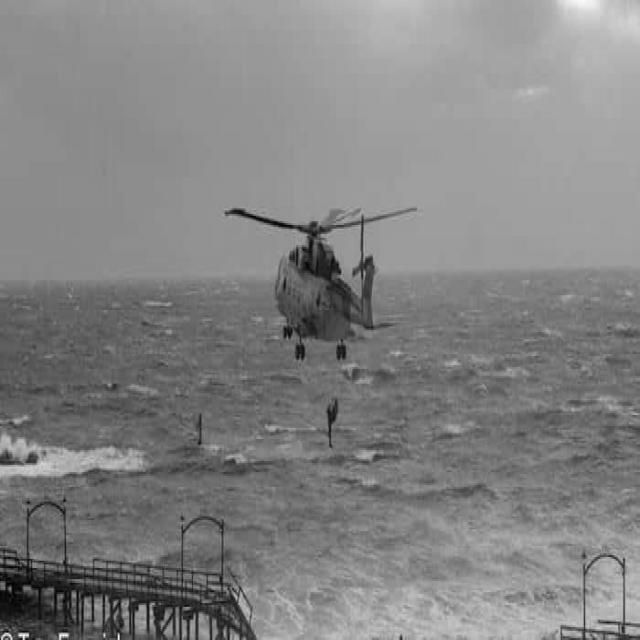helikopter: (228, 192, 422, 378)
